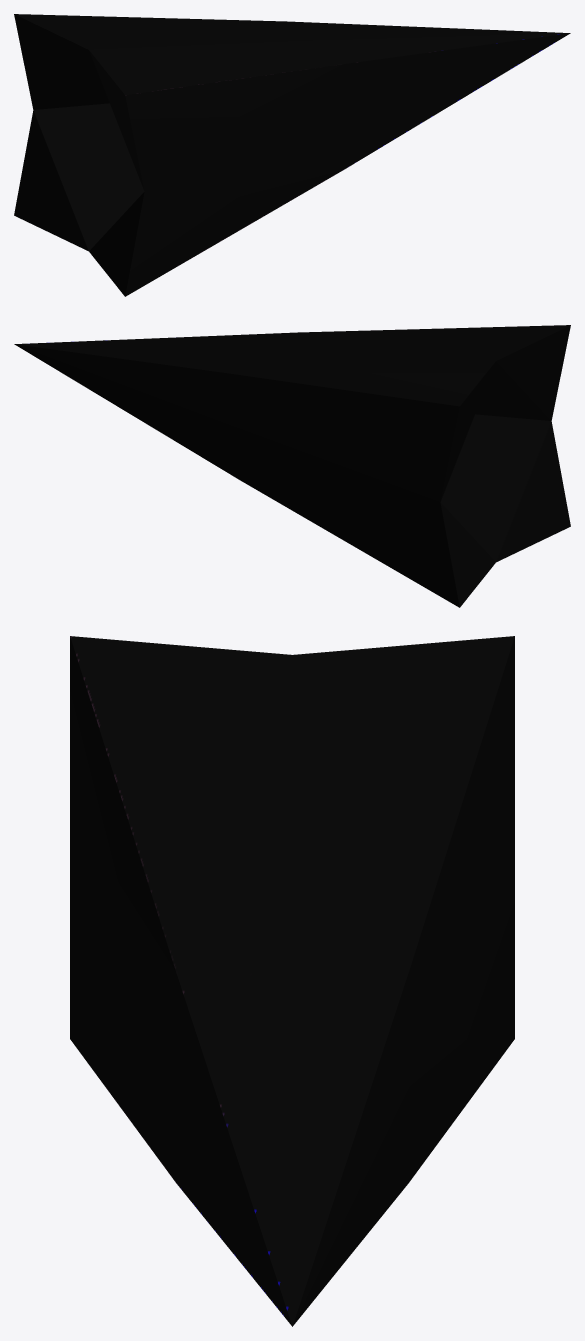
File: bird.gltf
3 renders of one model, top to bottom at view 1: azimuth 30°, elevation 25°; view 2: azimuth 150°, elevation 25°; view 3: azimuth 270°, elevation 25°, orthographic. The views are drawn at different scales.
Parts seen in each view (by area): view 1: Cube; view 2: Cube; view 3: Cube.
Boxes of the visible parts, <box> form: Cube: <box>14,14,570,296</box>; Cube: <box>14,325,570,607</box>; Cube: <box>70,636,514,1326</box>.
Size of the model in its own units: 1.4 by 0.536 by 0.536.
1 material, 1 textured.
